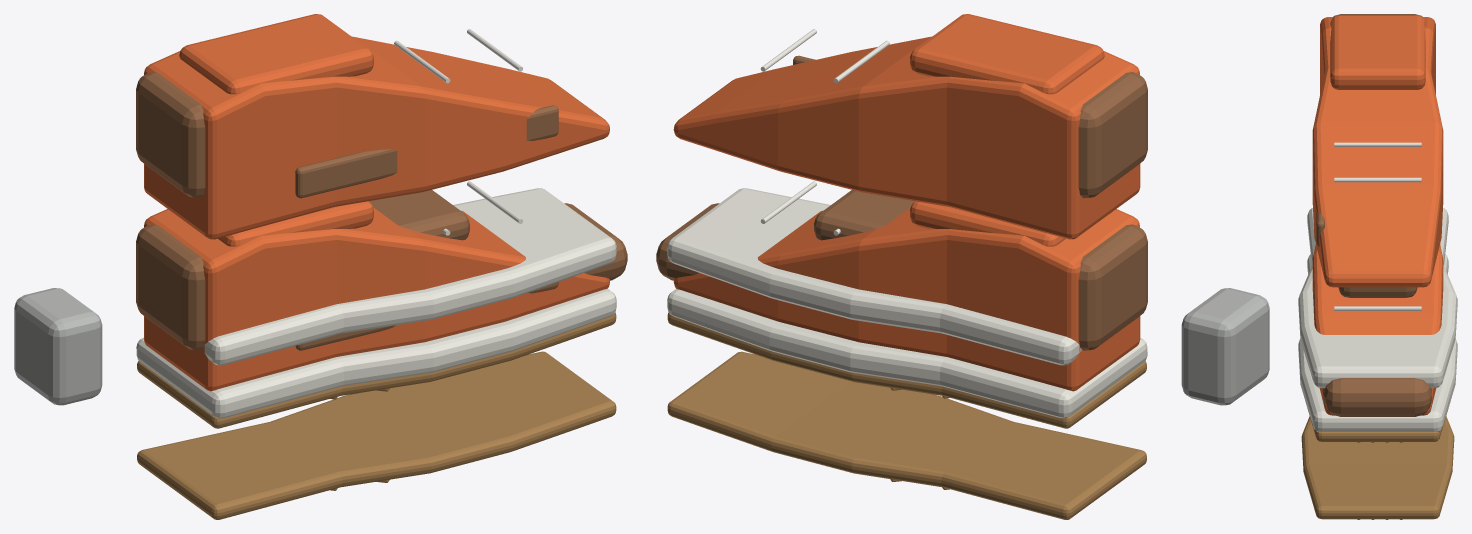
The model's file is nike-pre-montreal-1975.glb.
The picture shows the model from 3 angles, left to right: view 1: azimuth 30°, elevation 25°; view 2: azimuth 150°, elevation 25°; view 3: azimuth 270°, elevation 25°; orthographic projection. The views are drawn at different scales.
Parts seen in each view (by area): view 1: nike-pre-montreal-1975_UPPER_EXPLODED, nike-pre-montreal-1975_OUTSOLE_EXPLODED, nike-pre-montreal-1975_UPPER, nike-pre-montreal-1975_MIDSOLE_EXPLODED, nike-pre-montreal-1975_MIDSOLE, nike-pre-montreal-1975_TONGUE_EXPLODED, nike-pre-montreal-1975_HEEL_FOAM_EXPLODED, nike-pre-montreal-1975_HEEL_COUNTER, nike-pre-montreal-1975_HEEL_COUNTER_EXPLODED, nike-pre-montreal-1975_OUTSOLE, nike-pre-montreal-1975_SIDE_REINFORCEMENT_EXPLODED, nike-pre-montreal-1975_EYESTAY (+3 smaller); view 2: nike-pre-montreal-1975_UPPER_EXPLODED, nike-pre-montreal-1975_OUTSOLE_EXPLODED, nike-pre-montreal-1975_UPPER, nike-pre-montreal-1975_MIDSOLE_EXPLODED, nike-pre-montreal-1975_MIDSOLE, nike-pre-montreal-1975_TONGUE_EXPLODED, nike-pre-montreal-1975_HEEL_FOAM_EXPLODED, nike-pre-montreal-1975_HEEL_COUNTER, nike-pre-montreal-1975_HEEL_COUNTER_EXPLODED, nike-pre-montreal-1975_OUTSOLE, nike-pre-montreal-1975_EYESTAY, nike-pre-montreal-1975_TONGUE (+1 smaller); view 3: nike-pre-montreal-1975_UPPER_EXPLODED, nike-pre-montreal-1975_OUTSOLE_EXPLODED, nike-pre-montreal-1975_MIDSOLE_EXPLODED, nike-pre-montreal-1975_TONGUE_EXPLODED, nike-pre-montreal-1975_UPPER, nike-pre-montreal-1975_MIDSOLE, nike-pre-montreal-1975_TOE_OVERLAY, nike-pre-montreal-1975_OUTSOLE, nike-pre-montreal-1975_EYESTAY, nike-pre-montreal-1975_LACE_5_EXPLODED, nike-pre-montreal-1975_LACE_5, nike-pre-montreal-1975_LACE_4_EXPLODED (+1 smaller).
Part boxes in pixels (x1,y1,x2,y2): nike-pre-montreal-1975_UPPER_EXPLODED: (144, 36, 609, 239); nike-pre-montreal-1975_OUTSOLE_EXPLODED: (137, 351, 616, 519); nike-pre-montreal-1975_UPPER: (144, 207, 609, 391); nike-pre-montreal-1975_MIDSOLE_EXPLODED: (204, 188, 616, 365); nike-pre-montreal-1975_MIDSOLE: (136, 288, 616, 418); nike-pre-montreal-1975_TONGUE_EXPLODED: (179, 14, 373, 94); nike-pre-montreal-1975_HEEL_FOAM_EXPLODED: (14, 288, 102, 405); nike-pre-montreal-1975_HEEL_COUNTER: (136, 224, 205, 350); nike-pre-montreal-1975_HEEL_COUNTER_EXPLODED: (136, 72, 205, 198); nike-pre-montreal-1975_OUTSOLE: (137, 312, 616, 428); nike-pre-montreal-1975_SIDE_REINFORCEMENT_EXPLODED: (295, 105, 558, 198); nike-pre-montreal-1975_EYESTAY: (369, 190, 469, 240); nike-pre-montreal-1975_UPPER_EXPLODED: (673, 36, 1140, 239); nike-pre-montreal-1975_OUTSOLE_EXPLODED: (667, 351, 1146, 519); nike-pre-montreal-1975_UPPER: (673, 207, 1140, 391); nike-pre-montreal-1975_MIDSOLE_EXPLODED: (667, 188, 1082, 365); nike-pre-montreal-1975_MIDSOLE: (667, 288, 1147, 418); nike-pre-montreal-1975_TONGUE_EXPLODED: (910, 14, 1104, 94); nike-pre-montreal-1975_HEEL_FOAM_EXPLODED: (1181, 288, 1269, 405); nike-pre-montreal-1975_HEEL_COUNTER: (1078, 224, 1147, 350); nike-pre-montreal-1975_HEEL_COUNTER_EXPLODED: (1078, 72, 1147, 198); nike-pre-montreal-1975_OUTSOLE: (667, 312, 1146, 428); nike-pre-montreal-1975_EYESTAY: (814, 190, 914, 240); nike-pre-montreal-1975_TONGUE: (910, 201, 1065, 246); nike-pre-montreal-1975_UPPER_EXPLODED: (1312, 17, 1443, 287); nike-pre-montreal-1975_OUTSOLE_EXPLODED: (1301, 416, 1454, 519); nike-pre-montreal-1975_MIDSOLE_EXPLODED: (1298, 208, 1457, 388); nike-pre-montreal-1975_TONGUE_EXPLODED: (1330, 15, 1425, 89); nike-pre-montreal-1975_UPPER: (1312, 244, 1443, 415); nike-pre-montreal-1975_MIDSOLE: (1298, 254, 1457, 431); nike-pre-montreal-1975_TOE_OVERLAY: (1324, 378, 1431, 416); nike-pre-montreal-1975_OUTSOLE: (1307, 408, 1448, 441); nike-pre-montreal-1975_EYESTAY: (1338, 287, 1417, 297); nike-pre-montreal-1975_LACE_5_EXPLODED: (1334, 177, 1421, 182); nike-pre-montreal-1975_LACE_5: (1334, 306, 1421, 310); nike-pre-montreal-1975_LACE_4_EXPLODED: (1334, 142, 1421, 146).
Size of the model in its own units: 0.3922 by 0.282 by 0.112.
